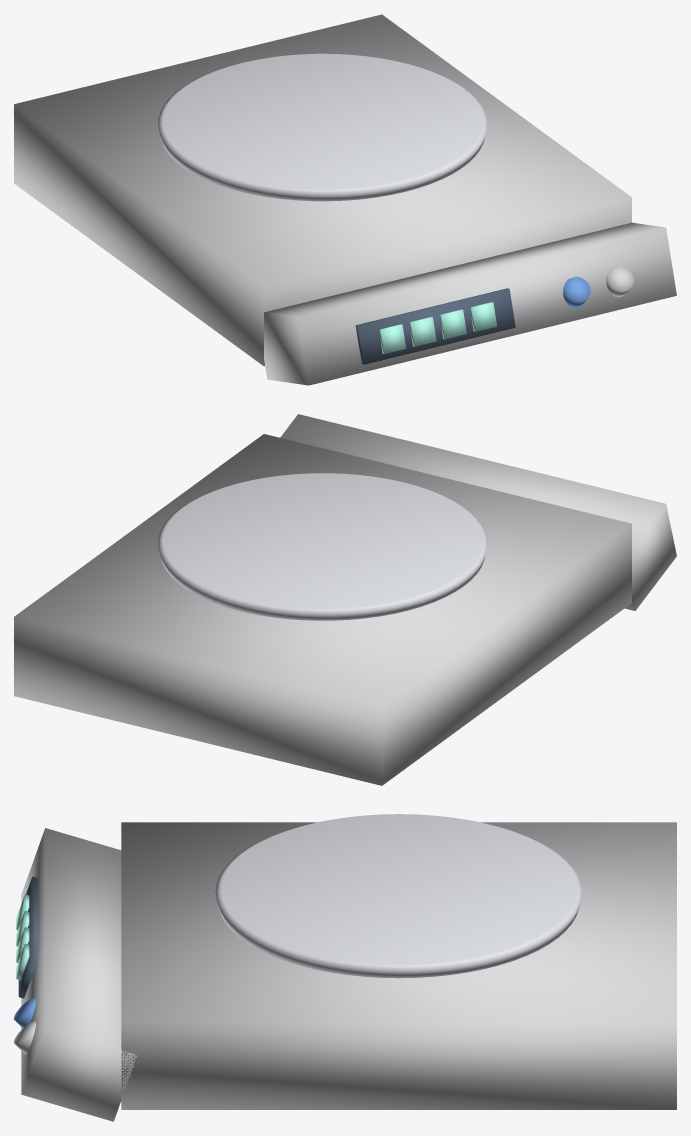
Rendered from balanza.glb.
3 views of the same model, one above another, from view 1: azimuth 30°, elevation 25°; view 2: azimuth 150°, elevation 25°; view 3: azimuth 270°, elevation 25° (orthographic). The views are drawn at different scales.
Parts seen in each view (by area): view 1: balanza_0, balanza_10, balanza_1, balanza_2, balanza_8, balanza_7, balanza_4, balanza_5, balanza_3, balanza_6; view 2: balanza_0, balanza_10, balanza_1; view 3: balanza_0, balanza_10, balanza_1, balanza_2.
Part boxes in pixels (x1,y1,x2,y2): balanza_0: (14, 14, 631, 366); balanza_10: (158, 53, 487, 201); balanza_1: (264, 222, 676, 385); balanza_2: (355, 288, 515, 364); balanza_8: (606, 266, 633, 297); balanza_7: (563, 276, 590, 307); balanza_4: (409, 317, 436, 346); balanza_5: (439, 309, 466, 339); balanza_3: (379, 324, 406, 353); balanza_6: (470, 302, 497, 331); balanza_0: (14, 434, 631, 785); balanza_10: (158, 473, 487, 620); balanza_1: (280, 414, 676, 610); balanza_0: (121, 822, 676, 1109); balanza_10: (215, 814, 582, 978); balanza_1: (21, 828, 137, 1121); balanza_2: (18, 876, 37, 998).
Bounding box in the file's own units: 0.17 × 0.0527 × 0.2386.
